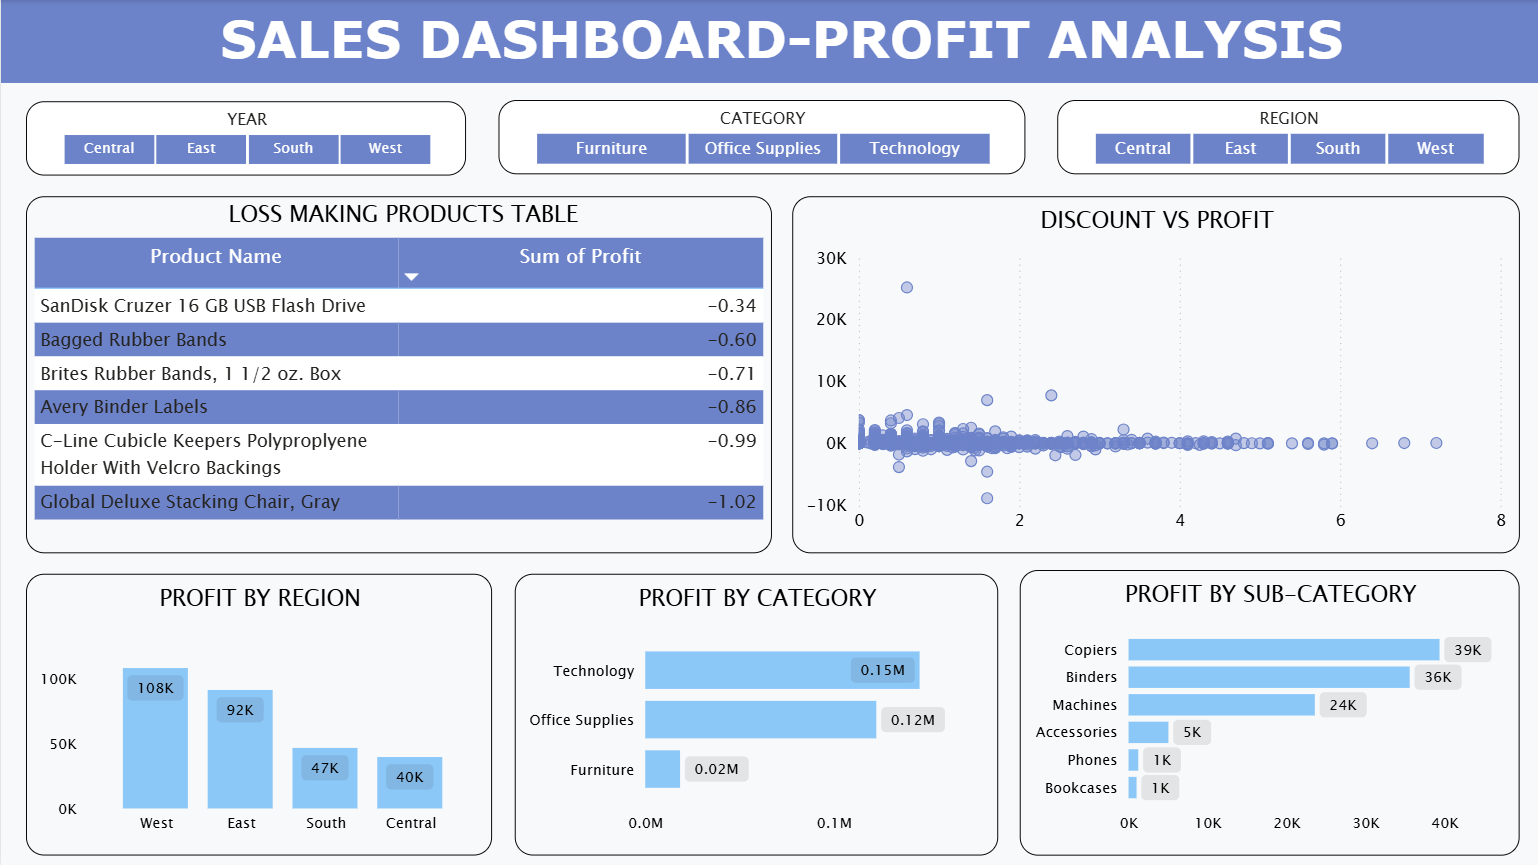

Layout of this report page (visuals, bound fields, positions):
{"tool":"powerbi","page":{"name":"PROFIT ANALYSIS","canvas":[1280,720],"ordinal":1},"visuals":[{"type":"textbox","box":[0,0,1280,69],"z":0},{"type":"slicer","title":"YEAR","fields":{"Values":["Cleaned_Superstore.Region"]},"box":[21.2,83.7,365.1,61.4],"z":1000},{"type":"slicer","title":"REGION","fields":{"Values":["Cleaned_Superstore.Region"]},"box":[875.4,82.6,383,61.4],"z":2000},{"type":"slicer","title":"CATEGORY","fields":{"Values":["Cleaned_Superstore.Category"]},"box":[412.6,82.6,436.6,61.4],"z":3000},{"type":"tableEx","title":"LOSS MAKING PRODUCTS TABLE","fields":{"Values":["Cleaned_Superstore.Product Name","Sum(Cleaned_Superstore.Profit)"]},"box":[21.2,163,618.6,295.9],"z":4000},{"type":"barChart","title":"PROFIT BY SUB-CATEGORY","fields":{"Category":["Cleaned_Superstore.Sub-Category"],"Y":["Sum(Cleaned_Superstore.Profit)"]},"box":[844.2,472.3,414.3,236.7],"z":5000},{"type":"barChart","title":"PROFIT BY CATEGORY","fields":{"Category":["Cleaned_Superstore.Category"],"Y":["Sum(Cleaned_Superstore.Profit)"]},"box":[425.4,475.7,400.9,233.4],"z":6000},{"type":"columnChart","title":"PROFIT BY REGION","fields":{"Category":["Cleaned_Superstore.Region"],"Y":["Sum(Cleaned_Superstore.Profit)"]},"box":[21.2,475.7,386.4,233.4],"z":7000},{"type":"scatterChart","title":"DISCOUNT VS PROFIT ","fields":{"X":["Sum(Cleaned_Superstore.Discount)"],"Y":["Sum(Cleaned_Superstore.Profit)"],"Category":["Cleaned_Superstore.Product Name"]},"box":[655.5,163,603,295.9],"z":8000}]}

Visuals, with their boxes in screenshot pixels (x1, y1, x2, y2), scaled from the page's 1280x720 canvas onto the 1538x865 screenshot:
textbox: BBox(0, 0, 1537, 83)
"YEAR" slicer: BBox(25, 101, 464, 174)
"REGION" slicer: BBox(1052, 99, 1512, 173)
"CATEGORY" slicer: BBox(496, 99, 1020, 173)
"LOSS MAKING PRODUCTS TABLE" tableEx: BBox(25, 196, 769, 551)
"PROFIT BY SUB-CATEGORY" barChart: BBox(1014, 567, 1512, 852)
"PROFIT BY CATEGORY" barChart: BBox(511, 572, 993, 852)
"PROFIT BY REGION" columnChart: BBox(25, 572, 490, 852)
"DISCOUNT VS PROFIT " scatterChart: BBox(788, 196, 1512, 551)
